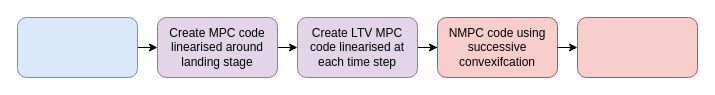
The diagram is 715 pixels wide and 95 high, and some of its shapes have lost their labels. Each missing label, with the centre of its shape:
Comparative analysis of LTV MPC and NMPC to take-off and land safely: point 637,47
Simulation Development: point 77,47
